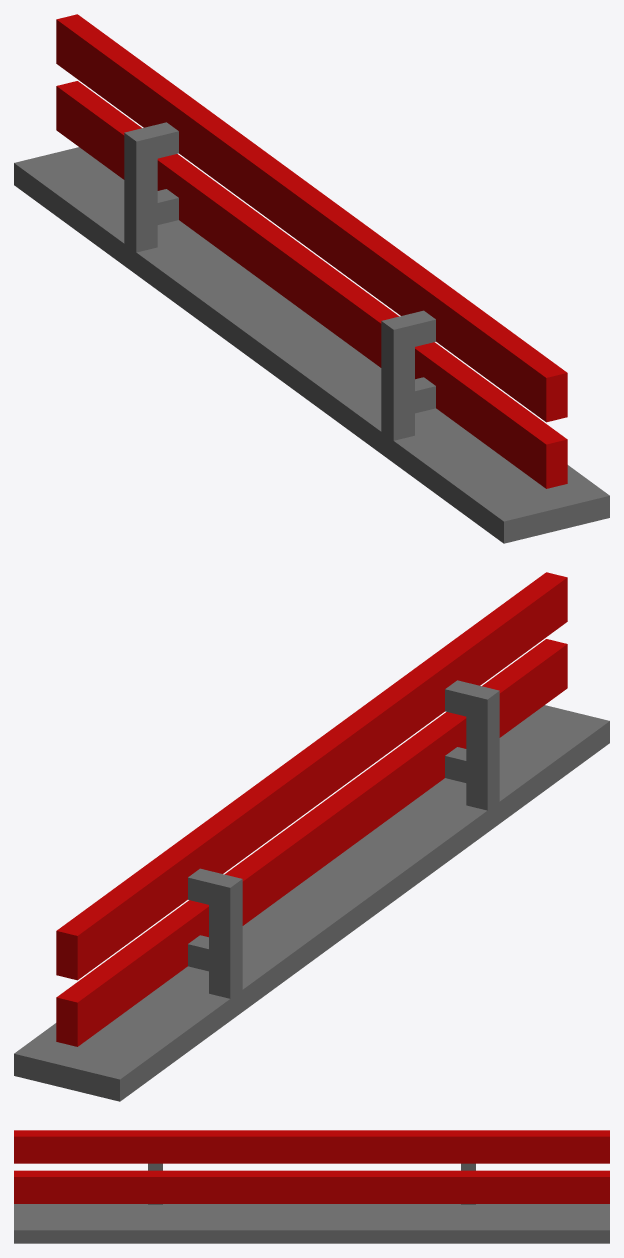
The model's file is All-19-Zabor_4.obj.
The picture shows the model from 3 angles, top to bottom: view 1: azimuth 30°, elevation 25°; view 2: azimuth 150°, elevation 25°; view 3: azimuth 270°, elevation 25°; orthographic projection. The views are drawn at different scales.
Parts seen in each view (by area): view 1: Zabor_4; view 2: Zabor_4; view 3: Zabor_4.
Boxes of the visible parts, x1,y1,x2,y2 form: Zabor_4: (14, 14, 609, 543); Zabor_4: (14, 572, 609, 1101); Zabor_4: (14, 1130, 609, 1243).
Bounding box in the file's own units: 0.5 × 0.7 × 4.
Materials: 1 (1 with a texture image).
